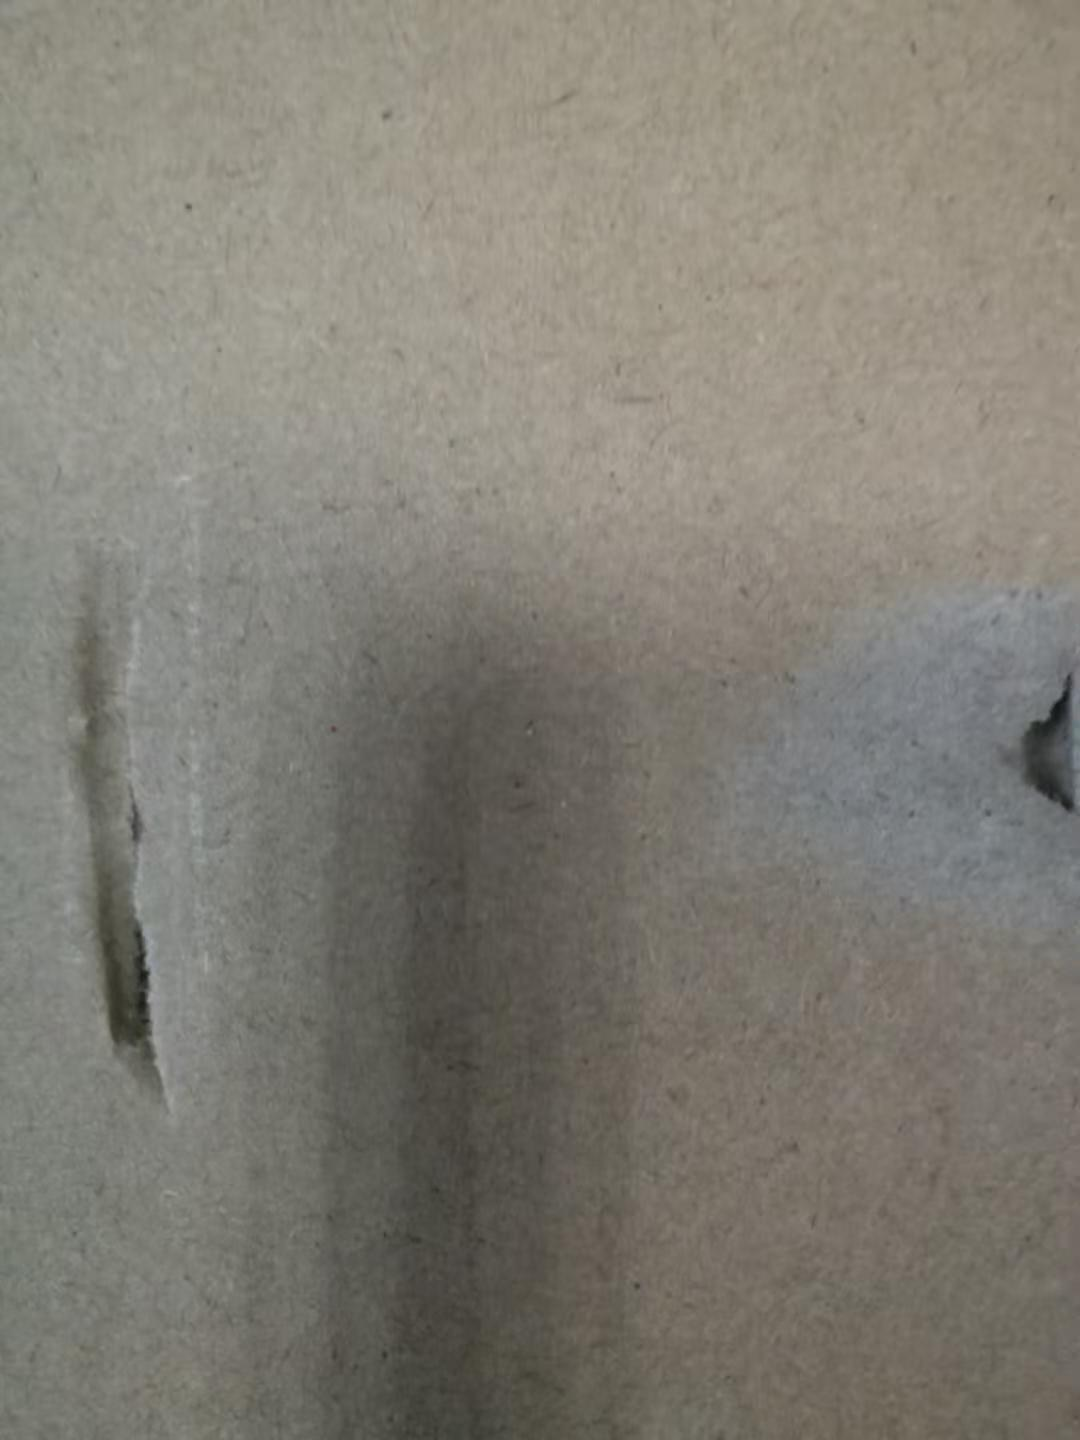defect: (682, 527, 1080, 984), (14, 507, 263, 1142)
